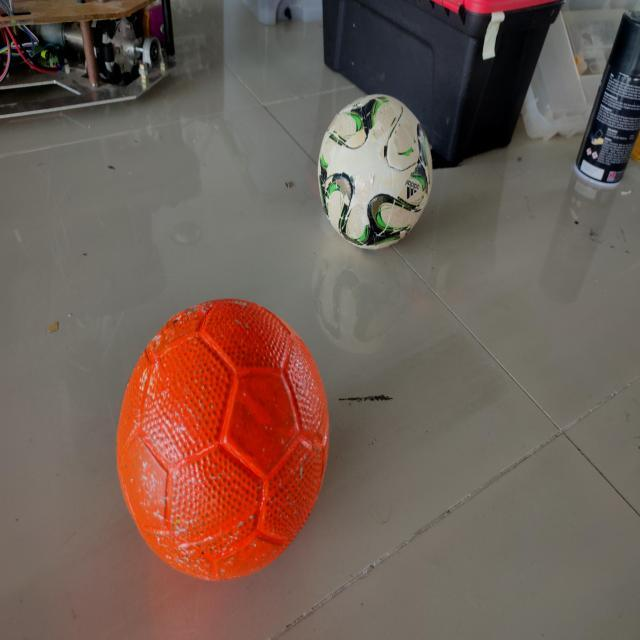bola: (112, 296, 334, 587)
